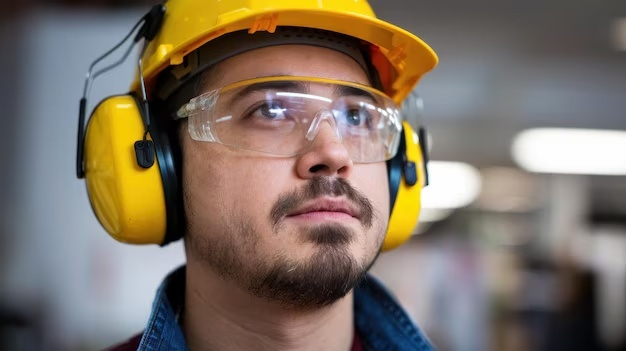safety_goggles: (130, 68, 455, 167)
